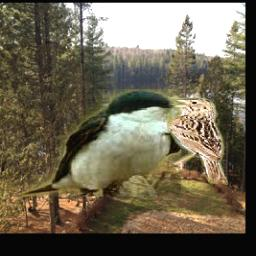Sparrow: (167, 96, 228, 185)
Swallow: (22, 90, 181, 197)
